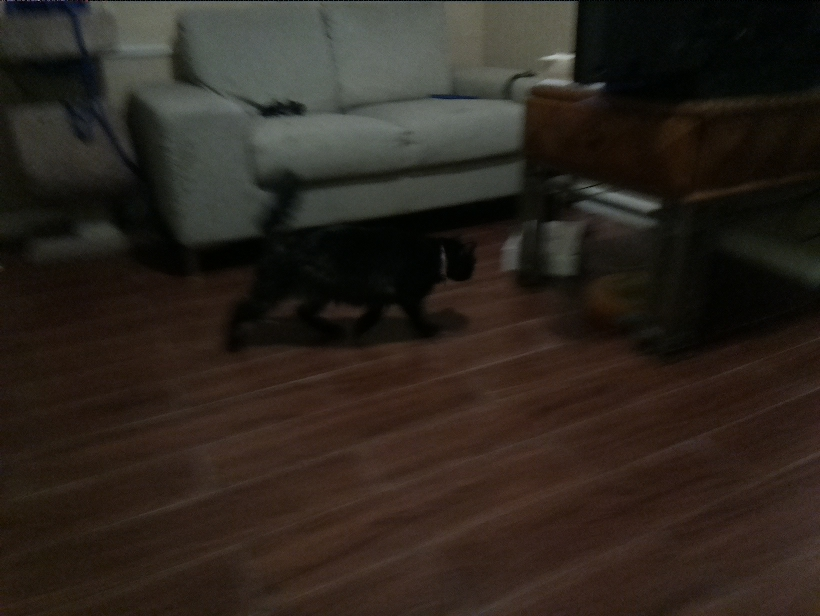cat: (190, 170, 484, 346)
